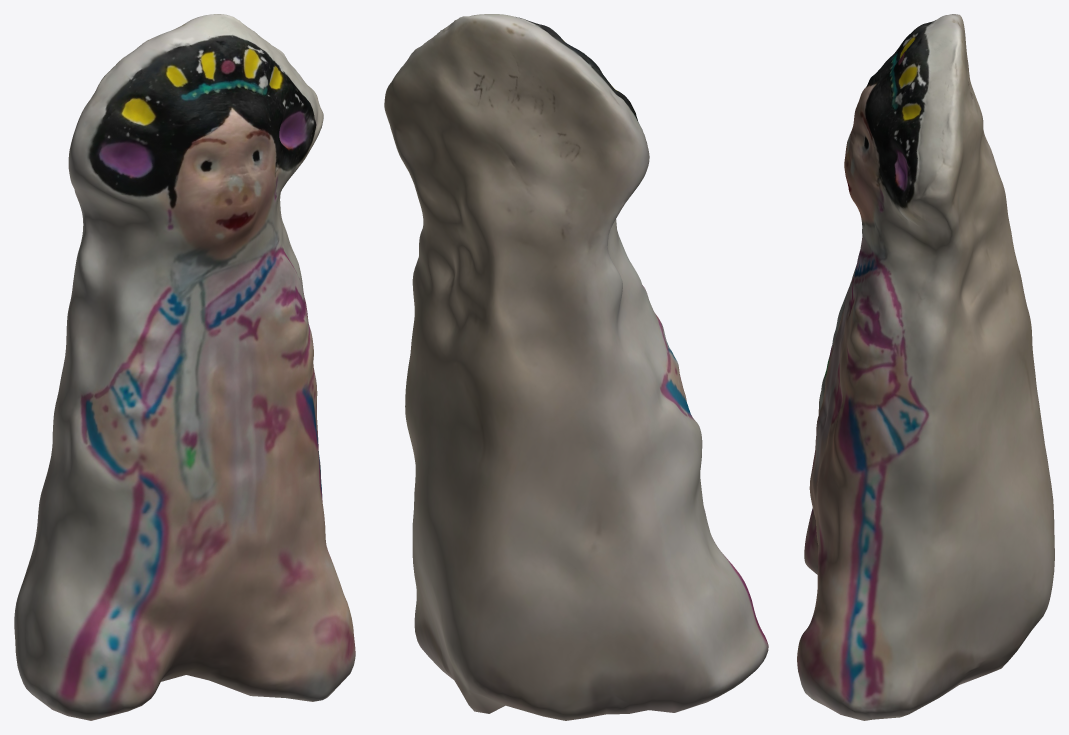
The picture shows the model from 3 angles, left to right: view 1: azimuth 30°, elevation 25°; view 2: azimuth 150°, elevation 25°; view 3: azimuth 270°, elevation 25°; orthographic projection. The views are drawn at different scales.
Size of the model in its own units: 0.4038 by 0.8005 by 0.2854.
Materials: 1 (1 with a texture image).
